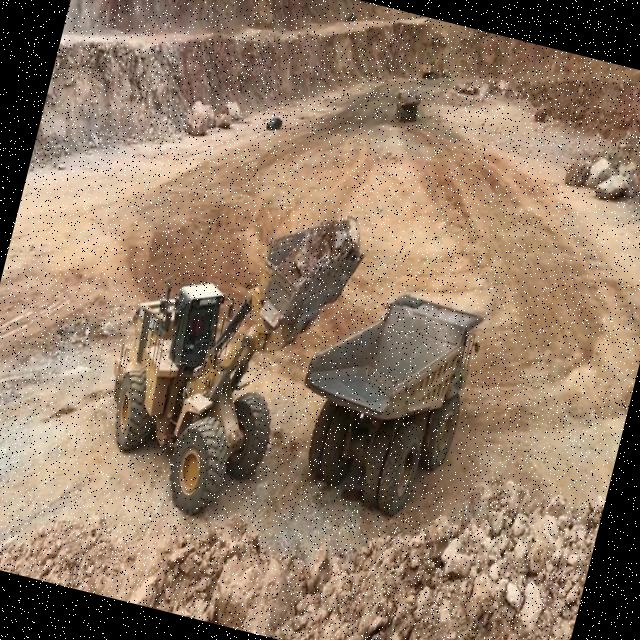Dump Truck: (274, 273, 490, 535), (390, 82, 425, 126)
Loader: (78, 160, 376, 546)
